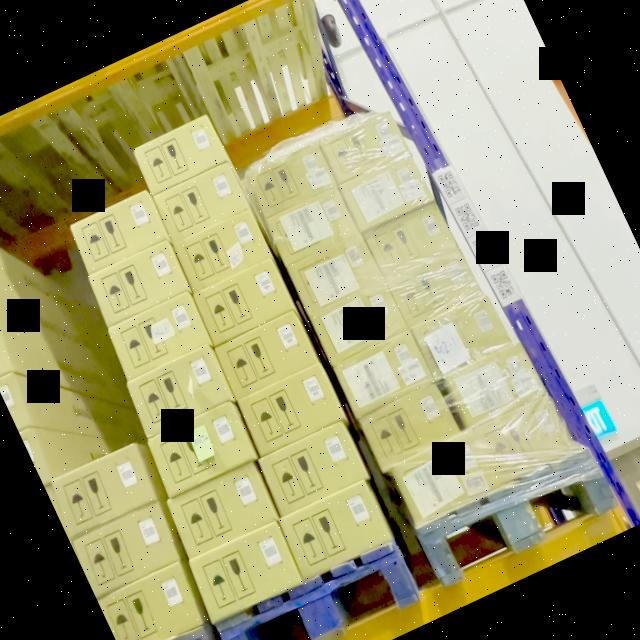box: (394, 394, 580, 526), (190, 524, 302, 618), (168, 464, 278, 555), (282, 486, 388, 573), (258, 426, 364, 512), (240, 366, 342, 451), (151, 407, 250, 490), (174, 210, 270, 290), (362, 386, 457, 466), (448, 344, 544, 423), (218, 316, 314, 394), (194, 263, 291, 340), (130, 352, 227, 429), (112, 298, 207, 376), (72, 193, 168, 270), (416, 294, 508, 372), (156, 165, 250, 240), (92, 246, 186, 321), (290, 235, 381, 311), (336, 333, 428, 408), (134, 116, 225, 191), (314, 287, 405, 361), (370, 207, 458, 281), (344, 158, 430, 232), (270, 189, 357, 262), (251, 147, 336, 215), (393, 256, 480, 322), (325, 112, 408, 180)
